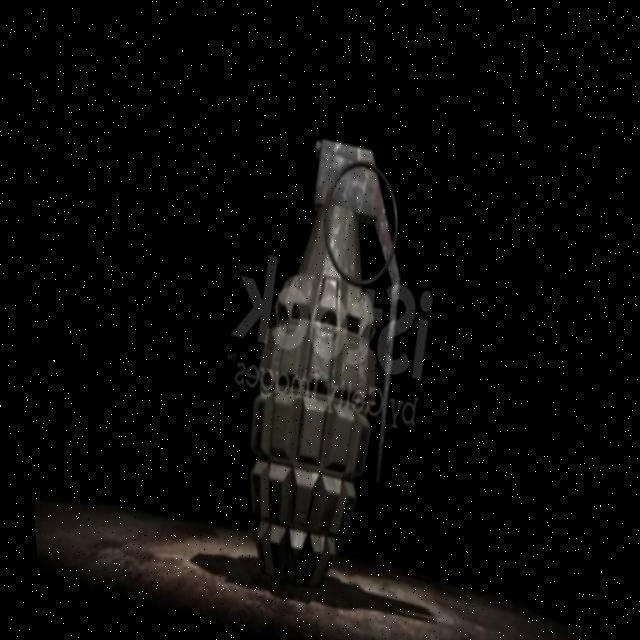grenade: (202, 115, 442, 607)
